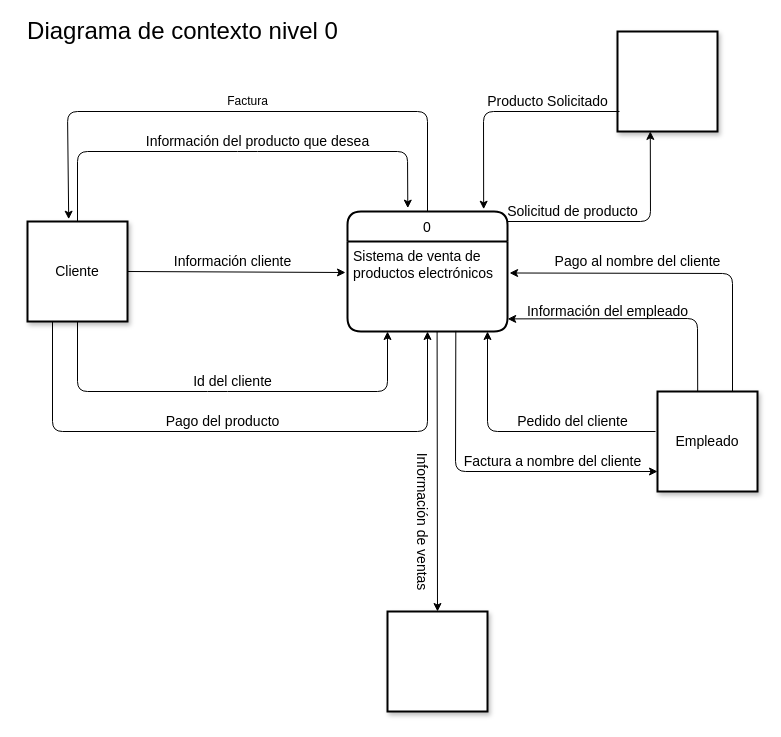
Image size: 781x737. Some labels were removed from this diagram. Here are the shapes that lost their labels. From the top down, the centre of each, then its label:
At (x=668, y=82): "Fabricante".
At (x=438, y=662): "Administración".
